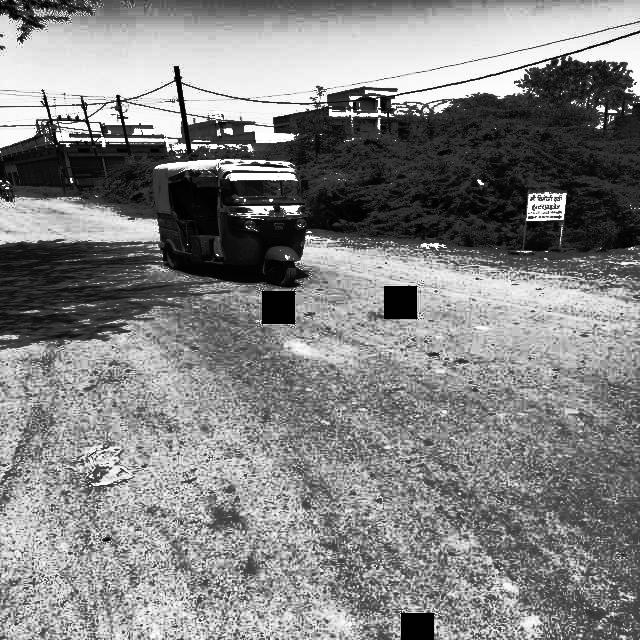Auto-Rickshaw: (141, 154, 319, 292)
